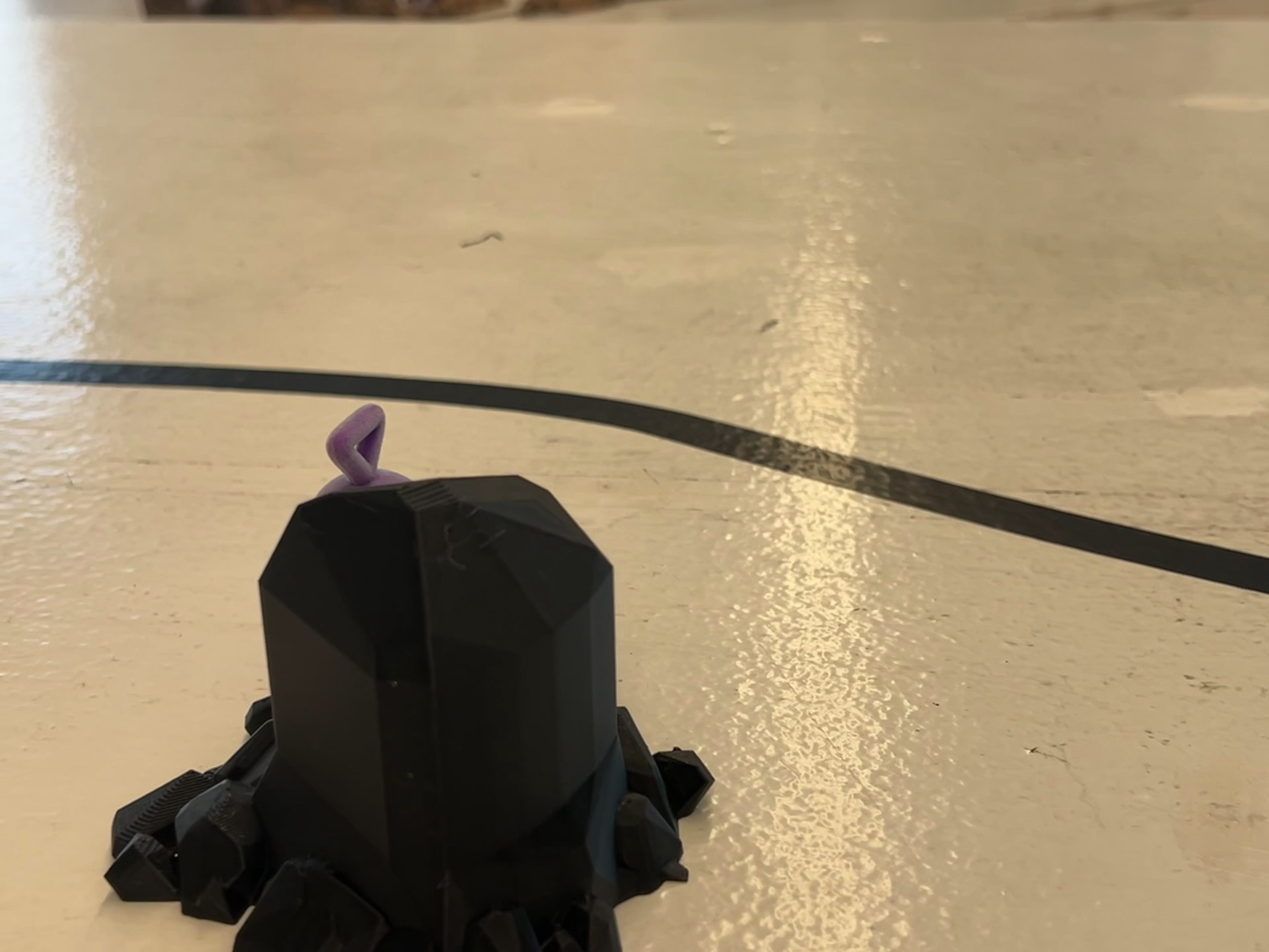teletubby: (317, 404, 409, 496), (345, 431, 345, 432)
